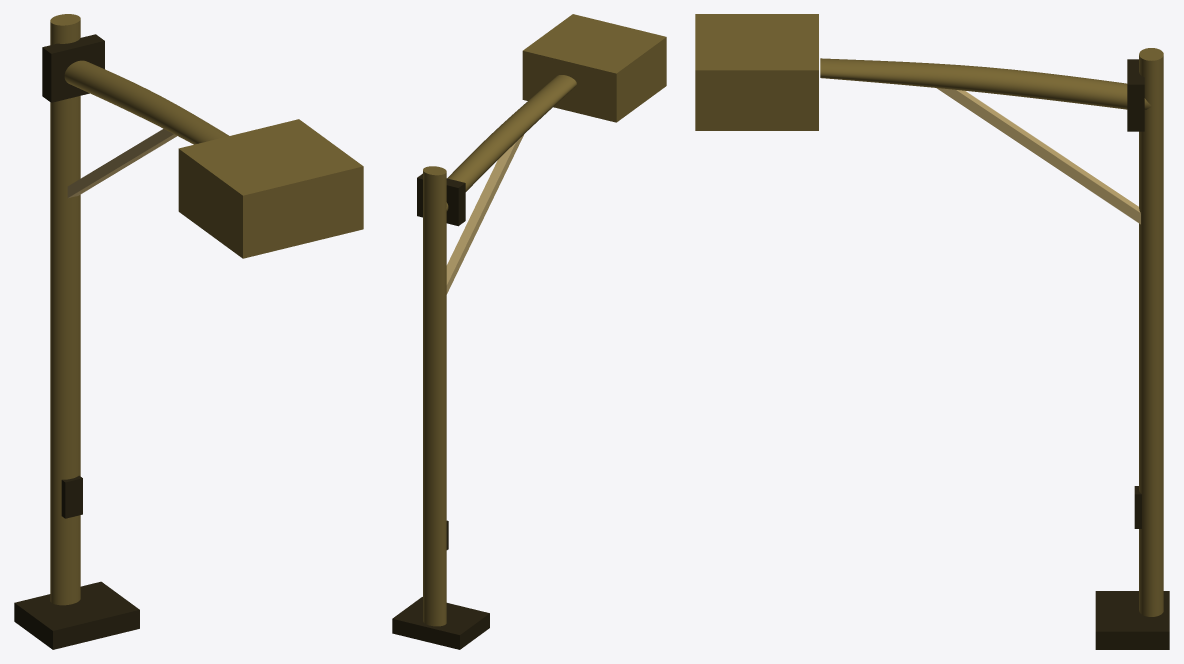
The picture shows the model from 3 angles, left to right: view 1: azimuth 30°, elevation 25°; view 2: azimuth 150°, elevation 25°; view 3: azimuth 270°, elevation 25°; orthographic projection. The views are drawn at different scales.
Visible parts, largest first — view 1: post_lamp; view 2: post_lamp; view 3: post_lamp.
Boxes of the visible parts, x1=… form: post_lamp: x1=14, y1=14, x2=363, y2=649; post_lamp: x1=392, y1=14, x2=666, y2=649; post_lamp: x1=695, y1=14, x2=1169, y2=649.
Bounding box in the file's own units: 1.23 × 5.98 × 4.37.
